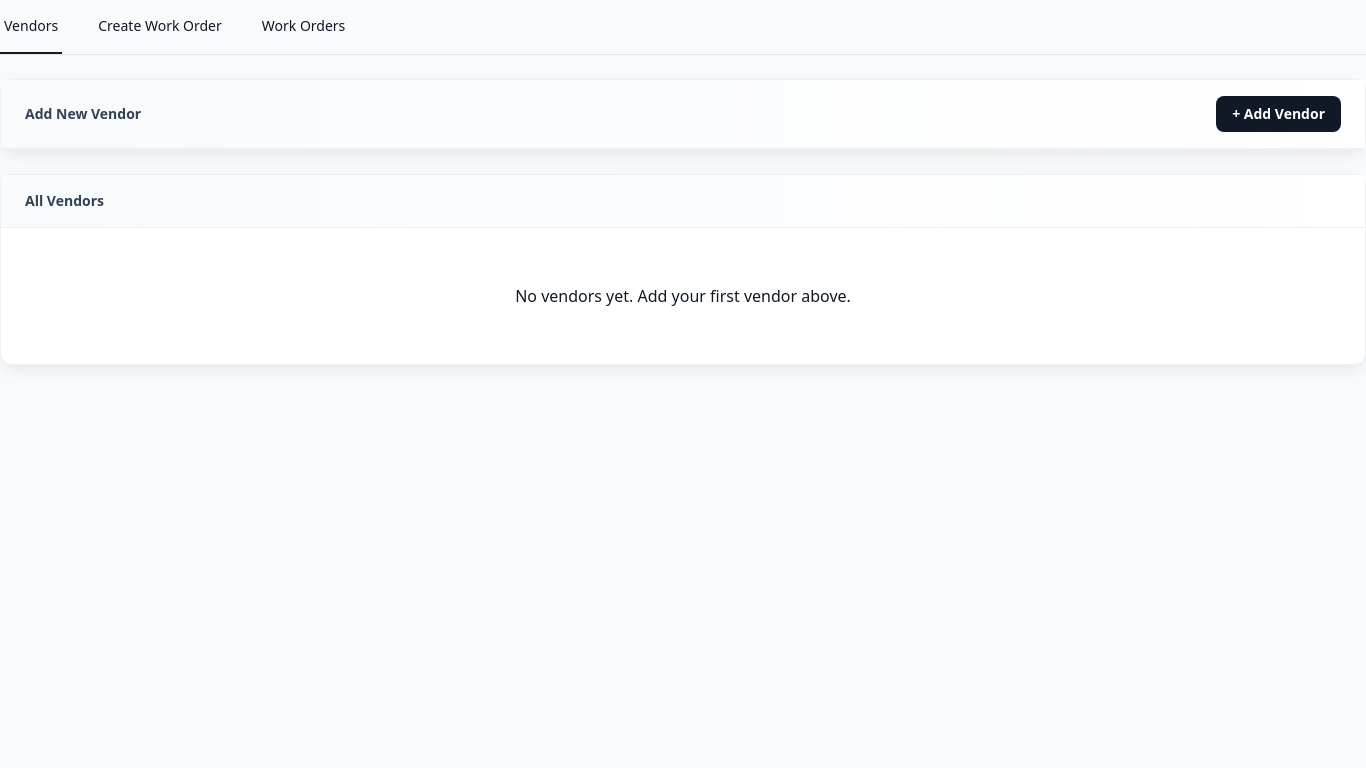
Test: MaintenancePage › should handle pagination for work orders
What coordinates should you click on to do the following:
click the button "Work Orders"
I would click on:
 (304, 27)
Its box is top-left (258, 0), bottom-right (349, 54).
(page scrolled)
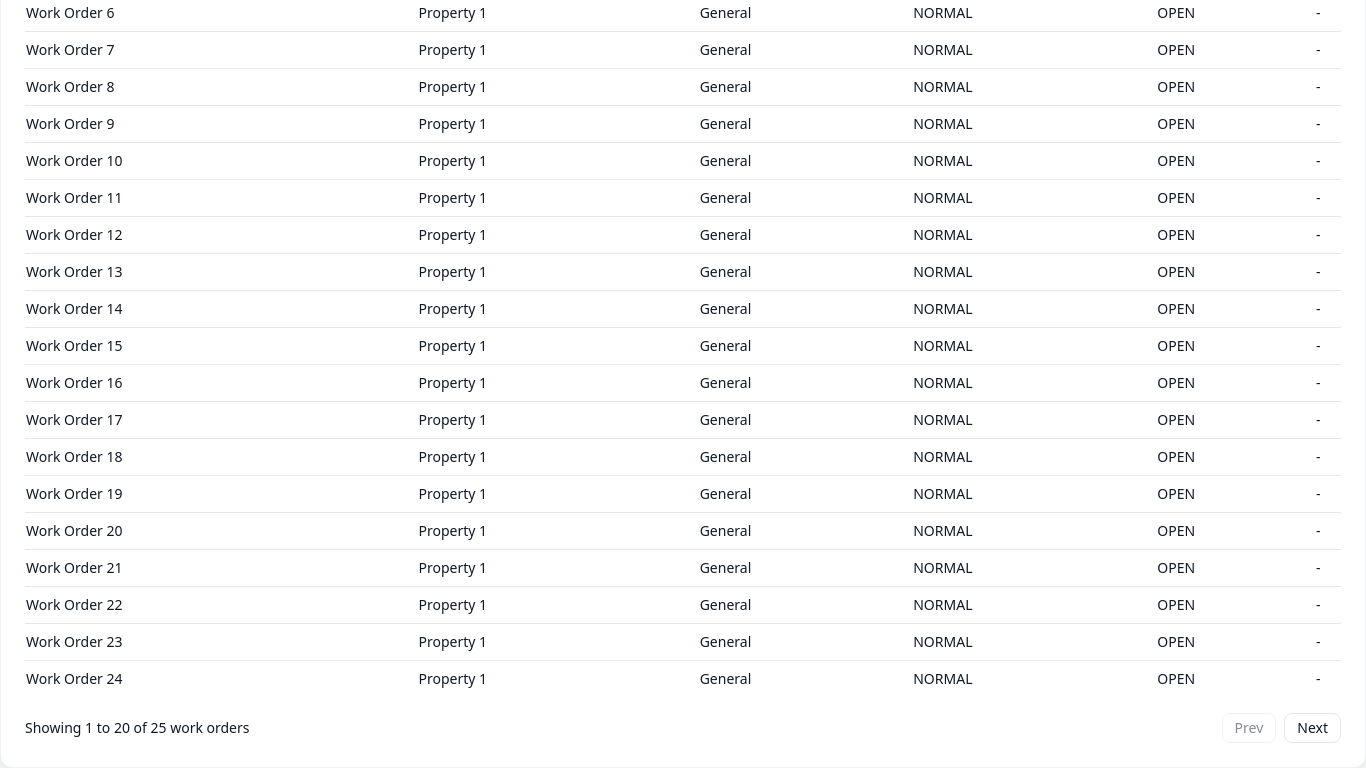
Result: the text "Showing 1 to 20 of 25 work orders" is shown at top-left (25, 718), bottom-right (250, 738)
